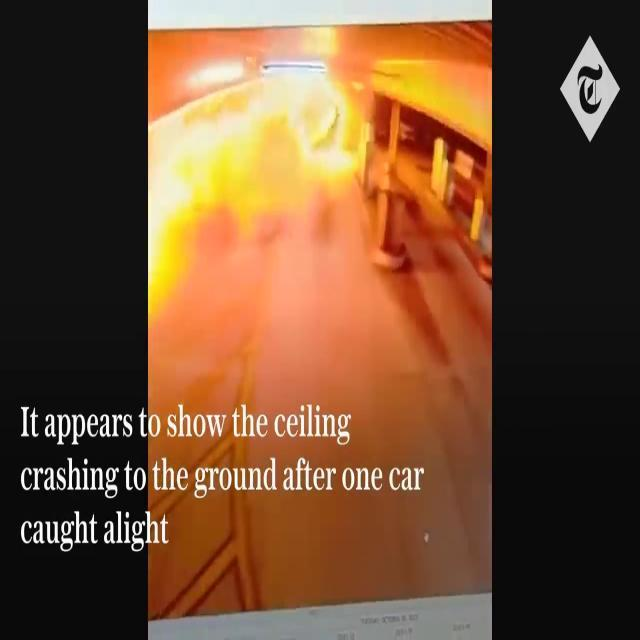Fire: (148, 7, 374, 371)
